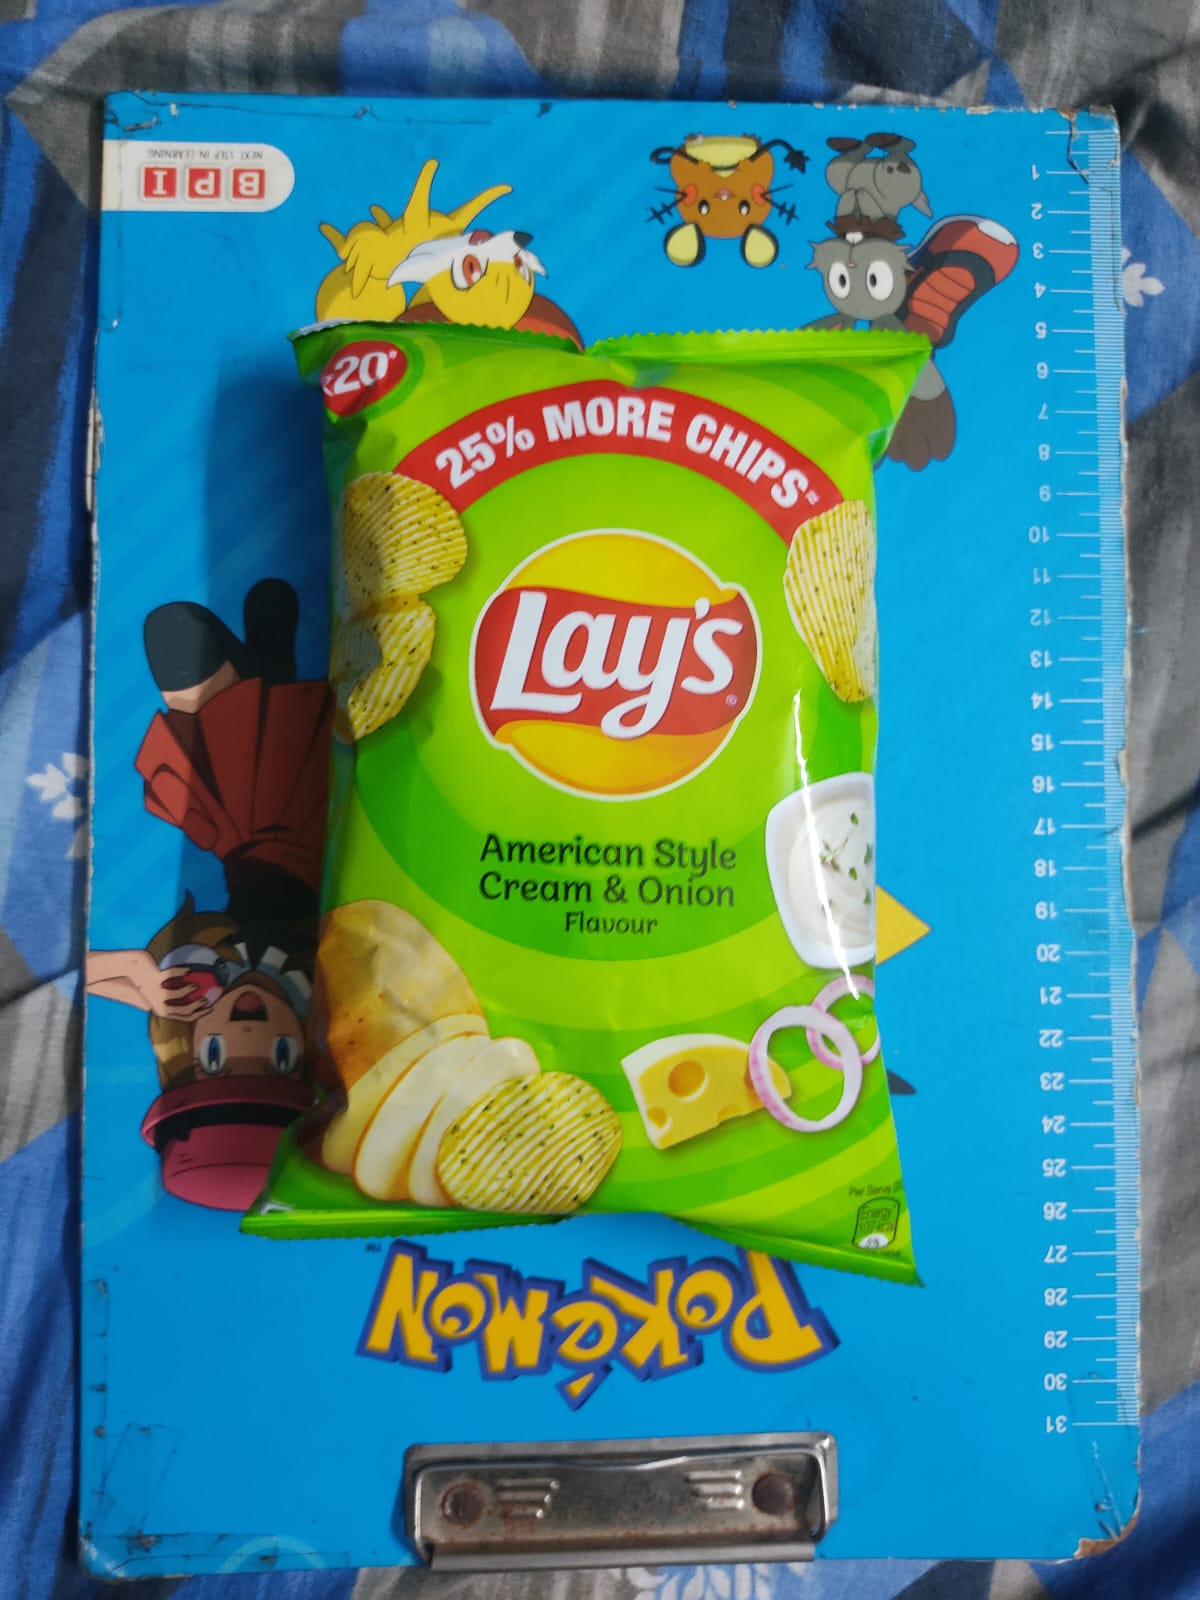020_GreenLays: (310, 333, 903, 1255)
